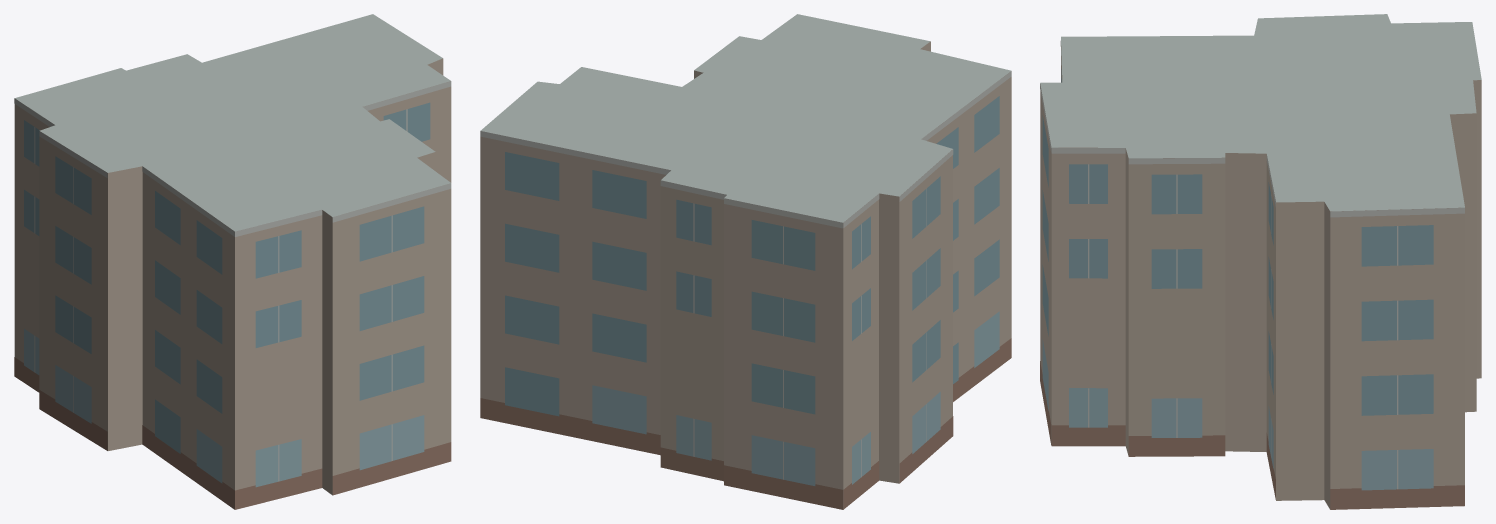
Rendered from survey-upis-33020601.glb.
3 renders of one model, left to right at view 1: azimuth 30°, elevation 25°; view 2: azimuth 150°, elevation 25°; view 3: azimuth 270°, elevation 25°, orthographic. The views are drawn at different scales.
Parts seen in each view (by area): view 1: survey-upis-33020601.tmp; view 2: survey-upis-33020601.tmp; view 3: survey-upis-33020601.tmp.
Part boxes in pixels (x1,y1,x2,y2): survey-upis-33020601.tmp: (14, 14, 451, 509); survey-upis-33020601.tmp: (480, 14, 1011, 509); survey-upis-33020601.tmp: (1040, 14, 1481, 509).
Bounding box in the file's own units: 17.32 × 12.2 × 16.37.
